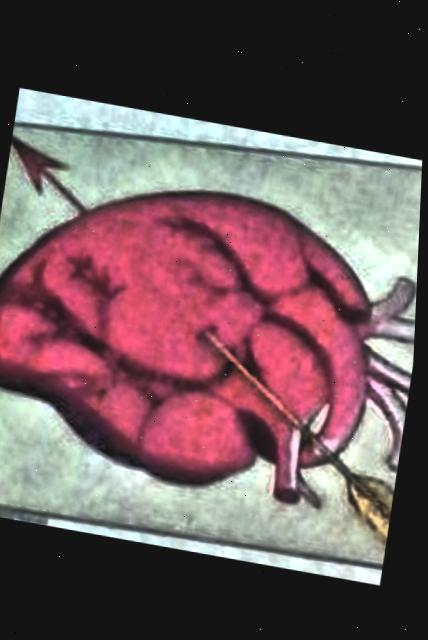El Corazon: (0, 125, 423, 560)
